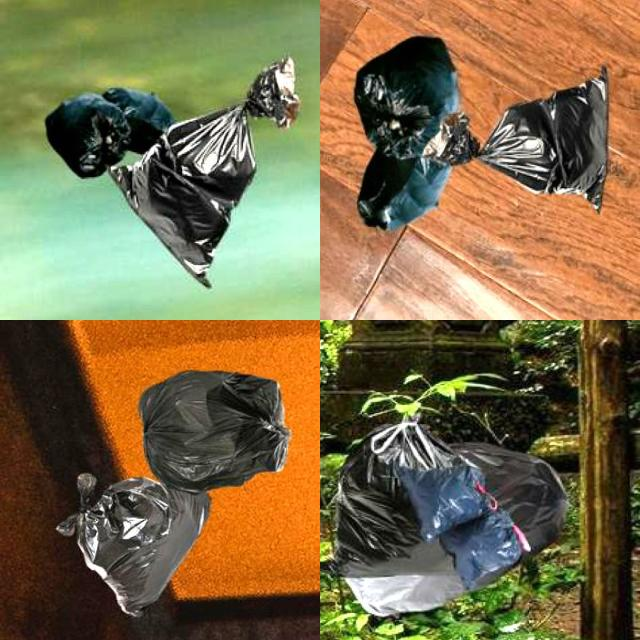Single-layer Plastic: (60, 371, 290, 616), (332, 421, 566, 616), (109, 58, 300, 288), (422, 69, 609, 211), (354, 36, 459, 230), (139, 371, 290, 492), (45, 94, 130, 178)
